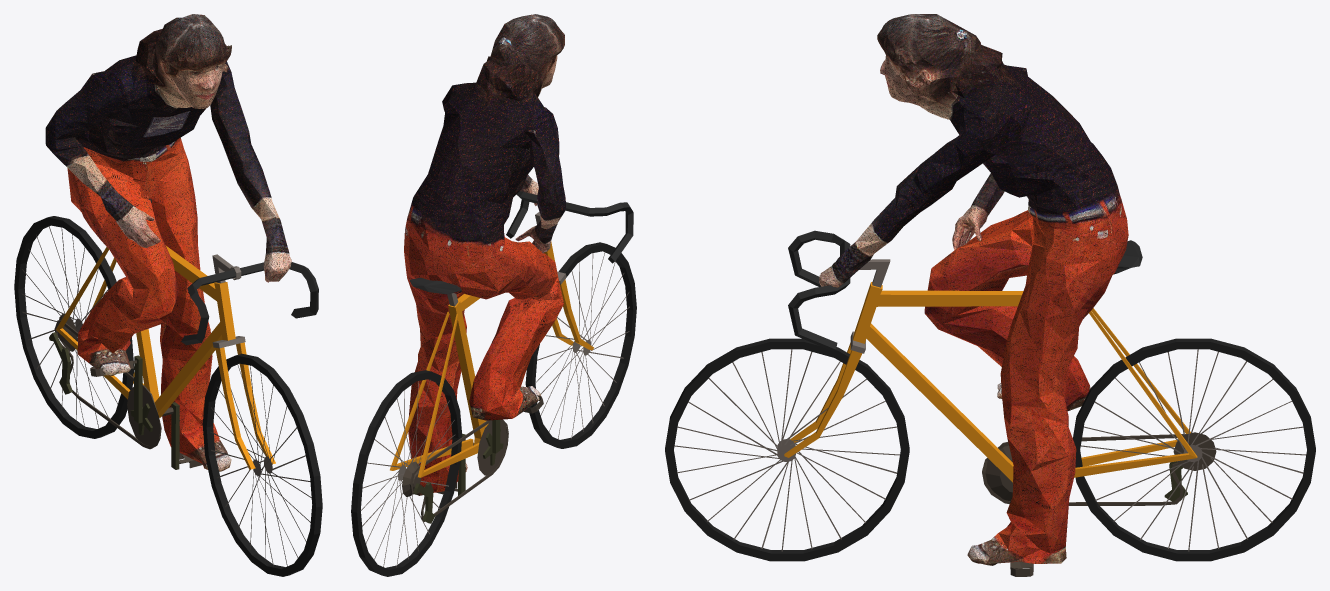
Rendered from bicycle_female_2.obj.
3 renders of one model, left to right at view 1: azimuth 30°, elevation 25°; view 2: azimuth 150°, elevation 25°; view 3: azimuth 270°, elevation 25°, orthographic. The views are drawn at different scales.
Parts seen in each view (by area): view 1: StaticModelFinal, TIRE1, CROSS_BAR1, SPOKES1, TREK_SILLIN1, TREK_CROMO1, BLACK_HAND1; view 2: StaticModelFinal, TIRE1, CROSS_BAR1, SPOKES1, TREK_SILLIN1, BLACK_HAND1, TREK_CROMO1; view 3: StaticModelFinal, TIRE1, CROSS_BAR1, SPOKES1, TREK_SILLIN1, BLACK_HAND1.
Boxes of the visible parts, x1,y1,x2,y2 form: StaticModelFinal: (45,14,291,471); TIRE1: (14,216,322,576); CROSS_BAR1: (56,245,275,469); SPOKES1: (21,226,311,566); TREK_SILLIN1: (54,313,202,468); TREK_CROMO1: (49,332,179,469); BLACK_HAND1: (149,199,318,345); StaticModelFinal: (404,14,565,495); TIRE1: (351,242,636,576); CROSS_BAR1: (390,241,593,477); SPOKES1: (361,212,629,567); TREK_SILLIN1: (402,395,543,521); BLACK_HAND1: (410,191,633,294); TREK_CROMO1: (413,419,503,523); StaticModelFinal: (819,14,1128,565); TIRE1: (665,338,1315,561); CROSS_BAR1: (784,282,1197,482); SPOKES1: (674,259,1306,551); TREK_SILLIN1: (982,432,1216,576); BLACK_HAND1: (788,230,1142,351).
Bounding box in the file's own units: 0.524 × 1.53 × 1.67.
7 materials, 1 textured.
